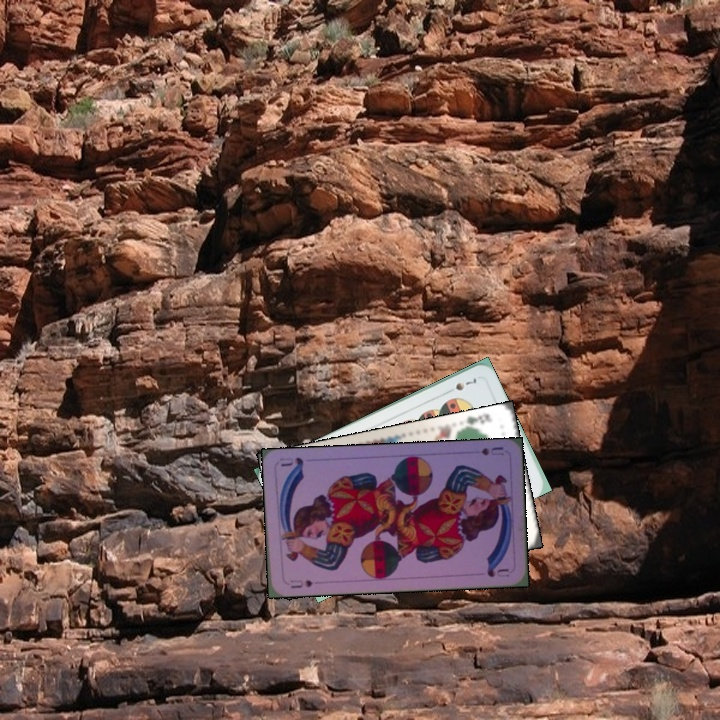GK: (460, 409, 494, 432)
S7: (442, 374, 479, 396)
SU: (286, 576, 323, 591), (477, 443, 506, 458)
